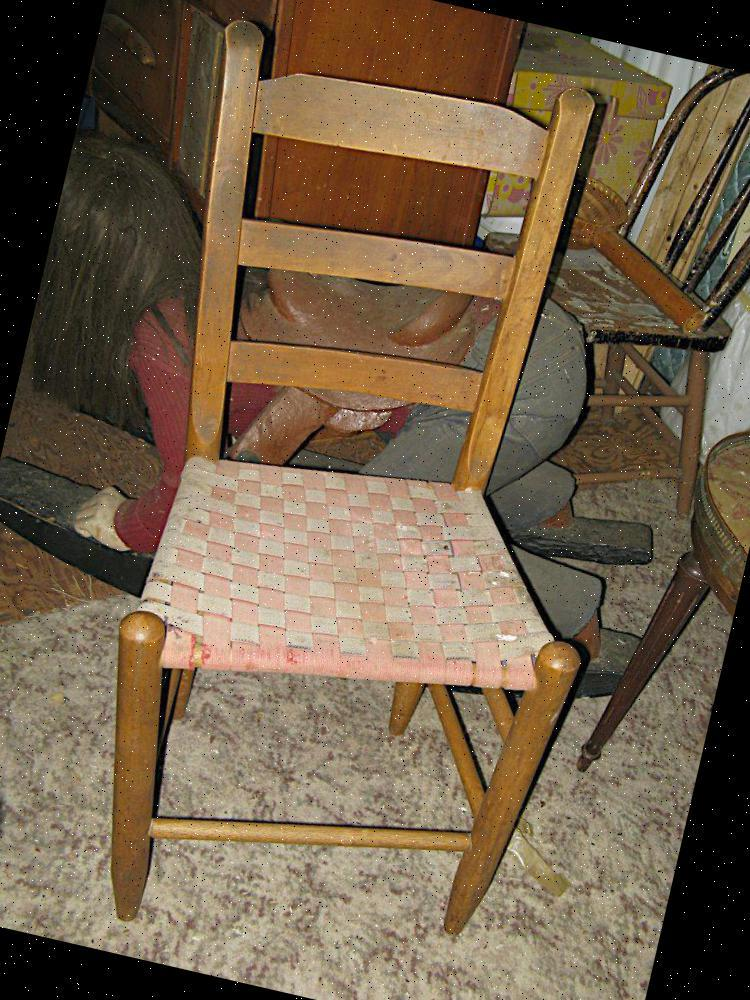Silla: (18, 1, 721, 999)
